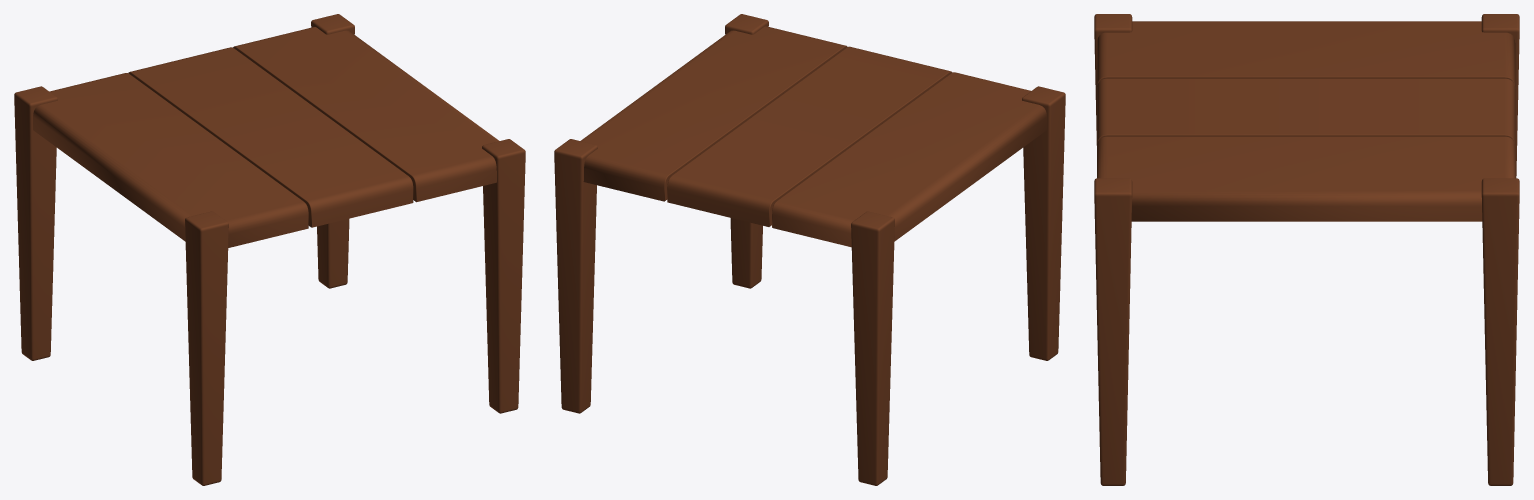
The model's file is coffe_table.fbx.
3 views of the same model, side by side, from view 1: azimuth 30°, elevation 25°; view 2: azimuth 150°, elevation 25°; view 3: azimuth 270°, elevation 25° (orthographic). The views are drawn at different scales.
Parts seen in each view (by area): view 1: Box1578966104; view 2: Box1578966104; view 3: Box1578966104.
Boxes of the visible parts, <box> form: Box1578966104: <box>14,14,525,485</box>; Box1578966104: <box>554,14,1065,485</box>; Box1578966104: <box>1094,14,1519,485</box>.
Size of the model in its own units: 55.33 by 42.35 by 55.15.
